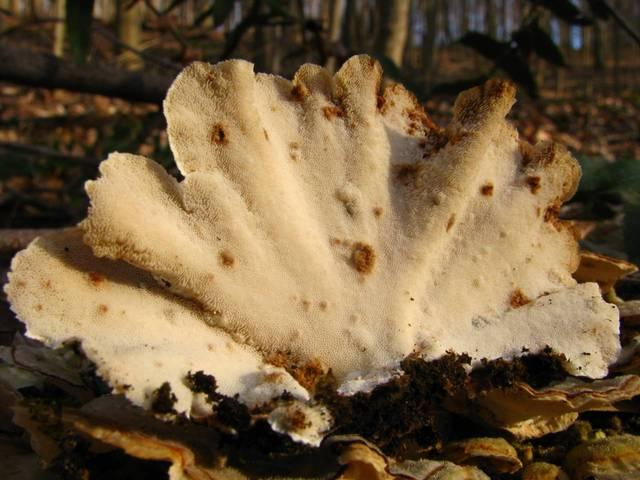Non-edible Mushroom: (4, 51, 635, 475)
